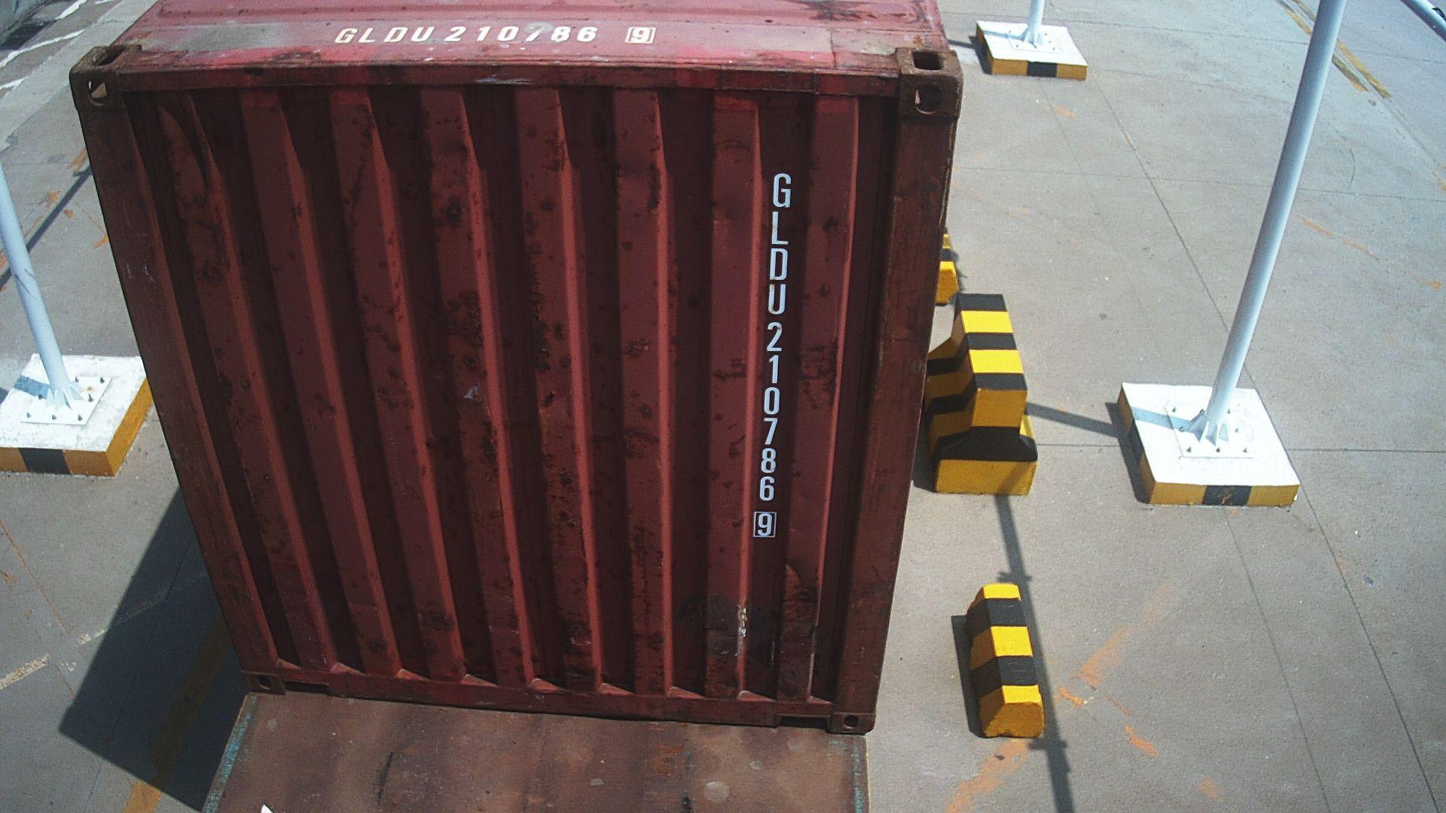container-numbers: (748, 168, 795, 540), (323, 20, 662, 48)
